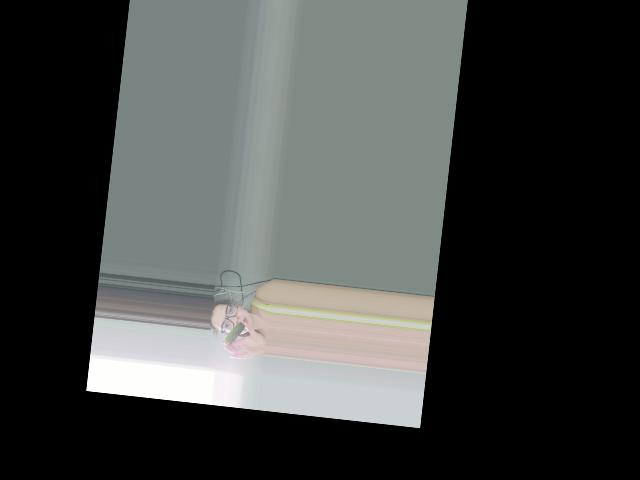cucumber: (224, 320, 245, 344)
